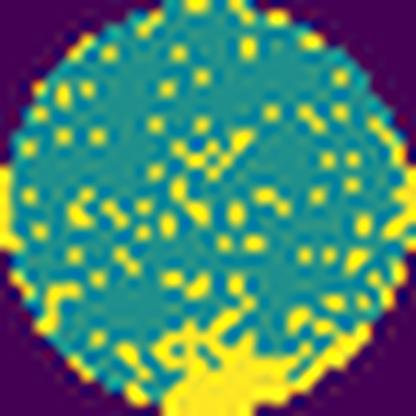Edge-Loc: (143, 304, 391, 416)
